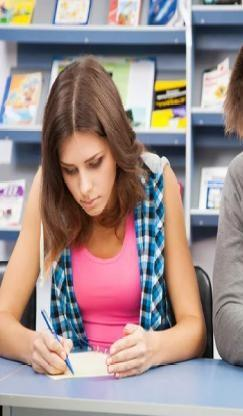good: (6, 50, 216, 389)
